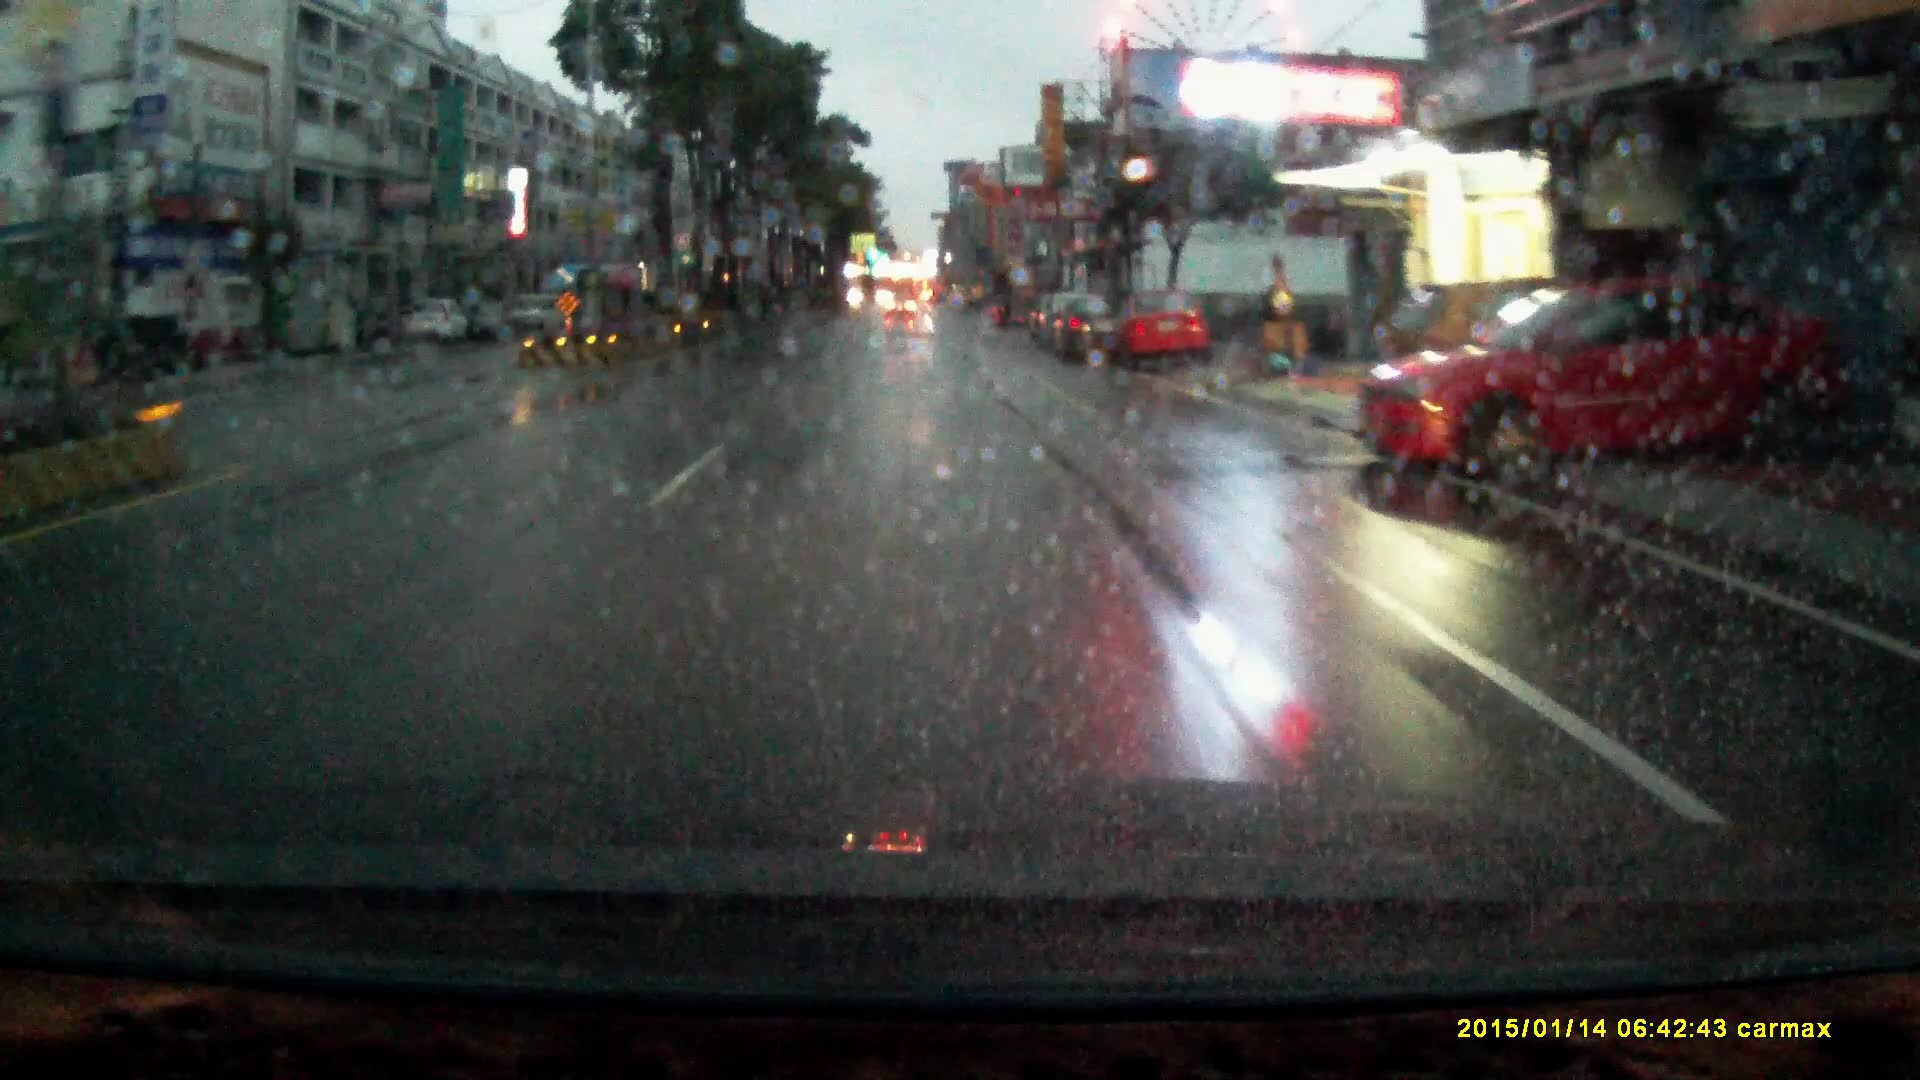vehicle: (1352, 272, 1813, 476), (1109, 286, 1217, 371), (1048, 289, 1122, 363), (406, 293, 472, 345), (509, 294, 574, 338), (1033, 290, 1058, 342), (886, 293, 918, 320)
